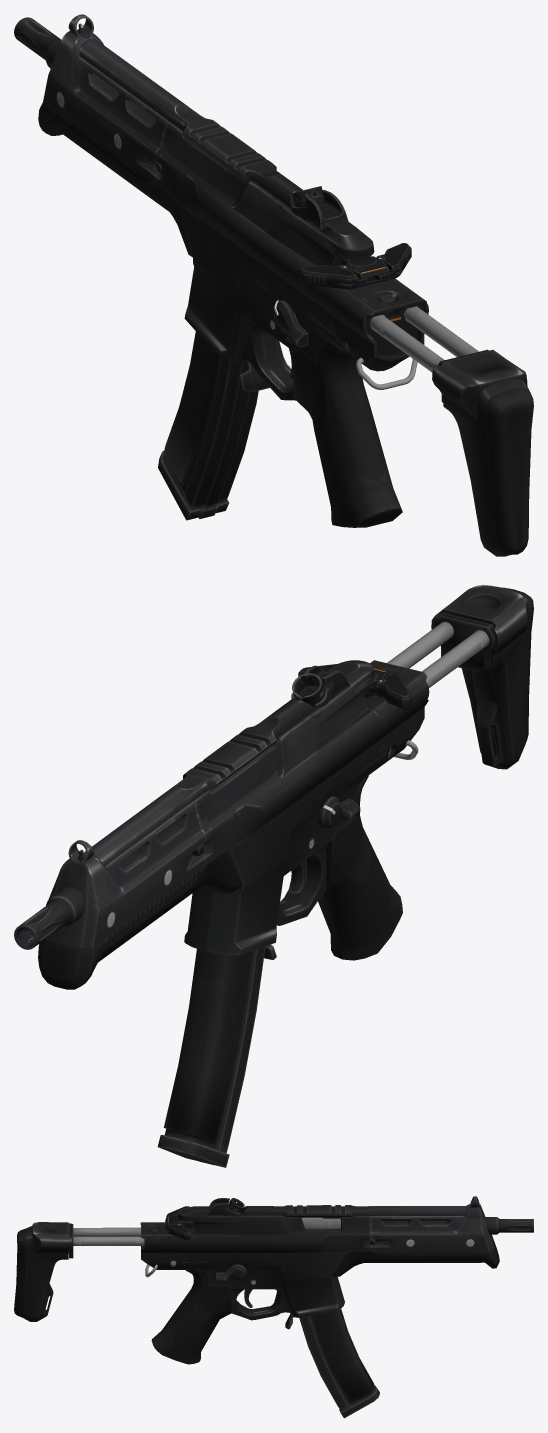
Rendered from lmg.obj.
3 views of the same model, one above another, from view 1: azimuth 30°, elevation 25°; view 2: azimuth 150°, elevation 25°; view 3: azimuth 270°, elevation 25° (orthographic). The views are drawn at different scales.
Parts seen in each view (by area): view 1: GN_MP5_S0_Skelmesh.mo_GN_MP5_S0_Skelmesh.md, GN_MP5_Magazine_S0_Staticmesh.mo_GN_MP5_Magazine_S0_Staticmesh.m; view 2: GN_MP5_S0_Skelmesh.mo_GN_MP5_S0_Skelmesh.md, GN_MP5_Magazine_S0_Staticmesh.mo_GN_MP5_Magazine_S0_Staticmesh.m; view 3: GN_MP5_S0_Skelmesh.mo_GN_MP5_S0_Skelmesh.md, GN_MP5_Magazine_S0_Staticmesh.mo_GN_MP5_Magazine_S0_Staticmesh.m.
Part boxes in pixels (<box>): GN_MP5_S0_Skelmesh.mo_GN_MP5_S0_Skelmesh.md: <box>14,14,533,556</box>; GN_MP5_Magazine_S0_Staticmesh.mo_GN_MP5_Magazine_S0_Staticmesh.m: <box>158,331,258,520</box>; GN_MP5_S0_Skelmesh.mo_GN_MP5_S0_Skelmesh.md: <box>14,585,533,989</box>; GN_MP5_Magazine_S0_Staticmesh.mo_GN_MP5_Magazine_S0_Staticmesh.m: <box>157,946,265,1167</box>; GN_MP5_S0_Skelmesh.mo_GN_MP5_S0_Skelmesh.md: <box>14,1196,533,1364</box>; GN_MP5_Magazine_S0_Staticmesh.mo_GN_MP5_Magazine_S0_Staticmesh.m: <box>299,1309,379,1418</box>.
Size of the model in its own units: 1.93 by 6.93 by 15.07.
2 materials, 1 textured.
